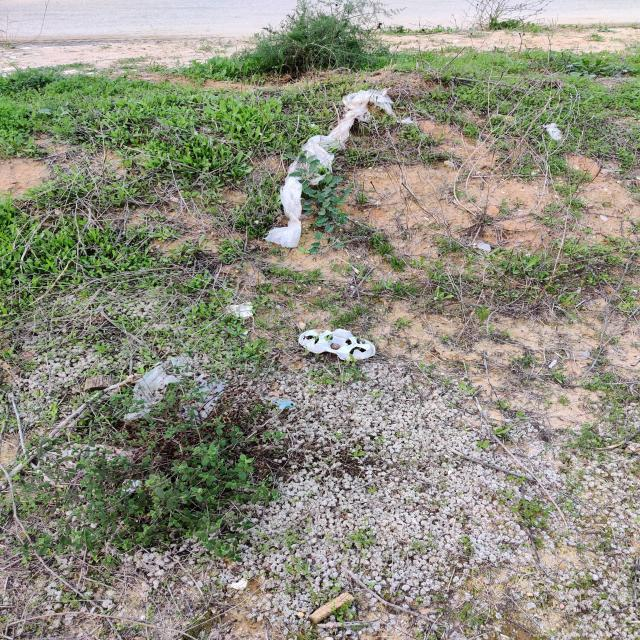litter: (249, 82, 421, 254)
